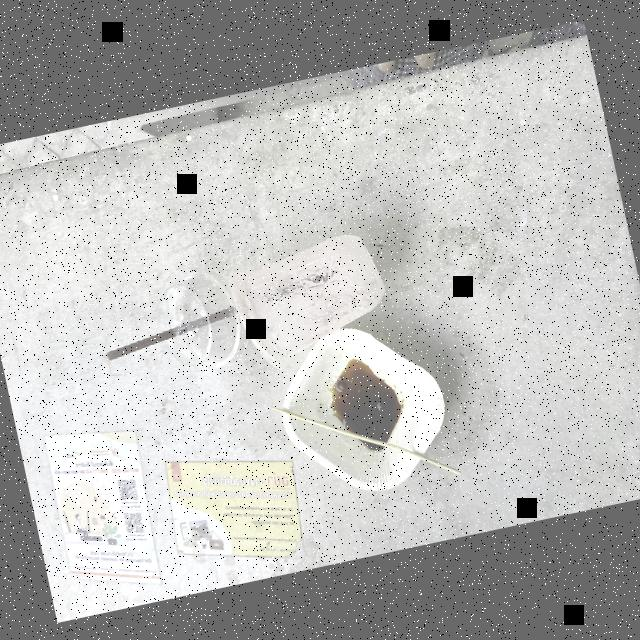cardboard_bowl: (259, 304, 476, 511)
plastic_cup: (220, 220, 402, 368)
plastic_cup_lid: (138, 254, 250, 380)
stick: (264, 389, 500, 501)
straw: (95, 293, 253, 369)
